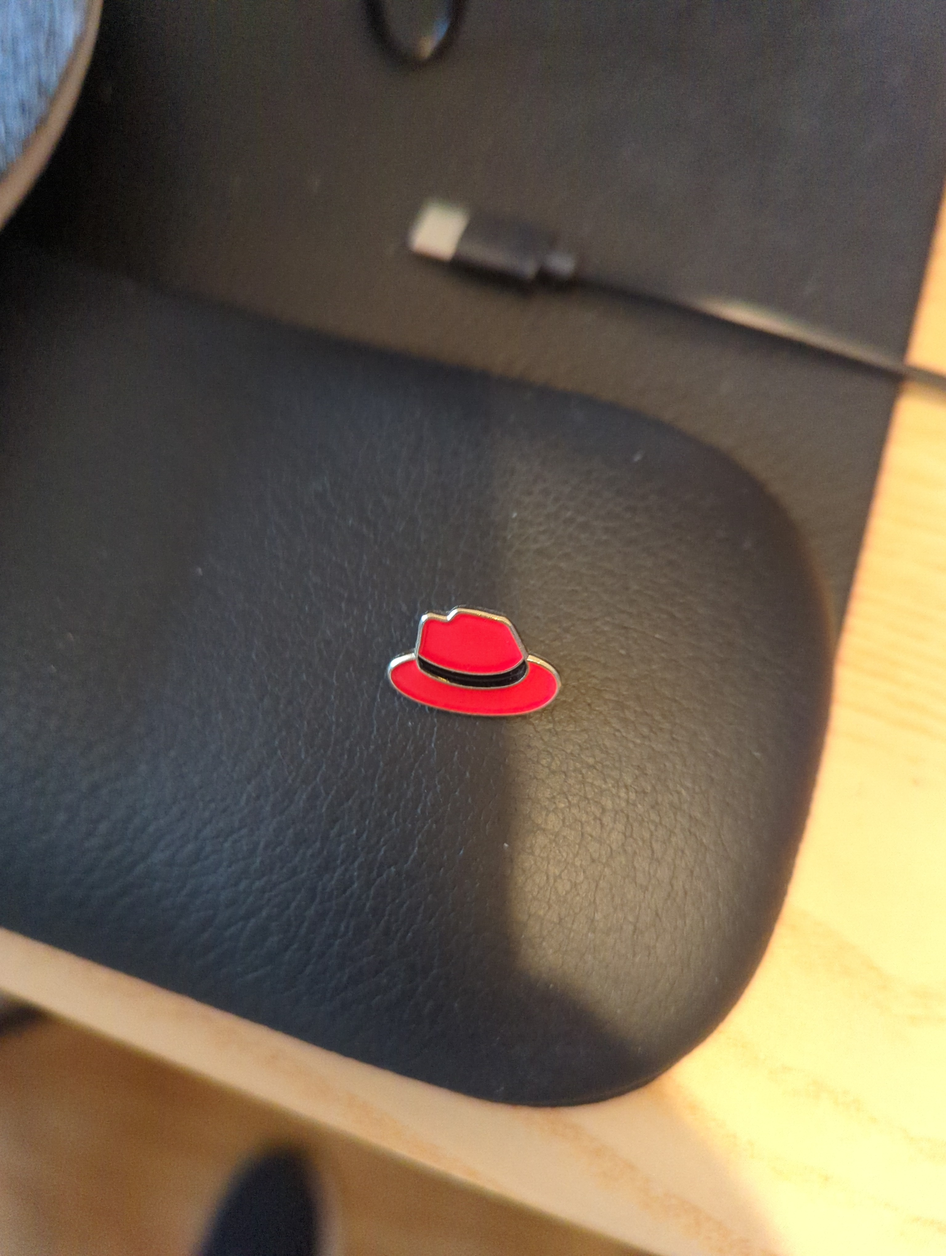Red-Hat: (318, 534, 656, 777)
